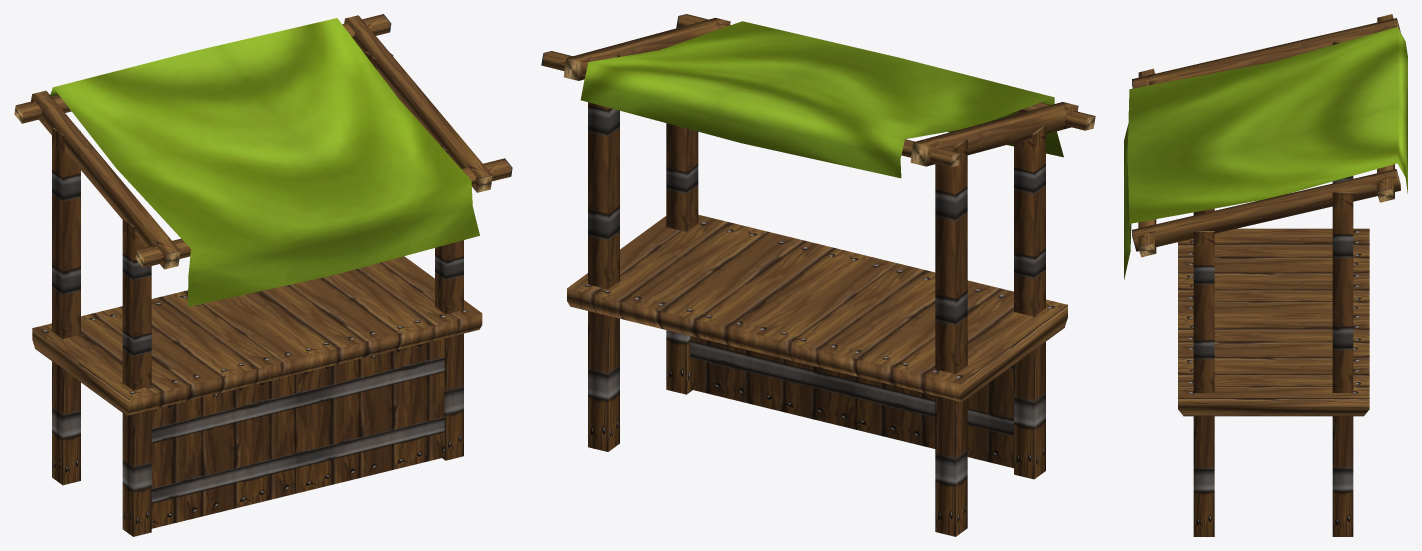
File: MarketPlace01A.fbx
3 views of the same model, side by side, from view 1: azimuth 30°, elevation 25°; view 2: azimuth 150°, elevation 25°; view 3: azimuth 270°, elevation 25° (orthographic). The views are drawn at different scales.
Parts seen in each view (by area): view 1: MarketPlace01; view 2: MarketPlace01; view 3: MarketPlace01.
Part boxes in pixels (box(x1,y1,x2,y2)): MarketPlace01: box(14, 14, 512, 536); MarketPlace01: box(541, 14, 1095, 536); MarketPlace01: box(1124, 14, 1407, 536).
Bounding box in the file's own units: 5.97 × 5.73 × 4.05.
